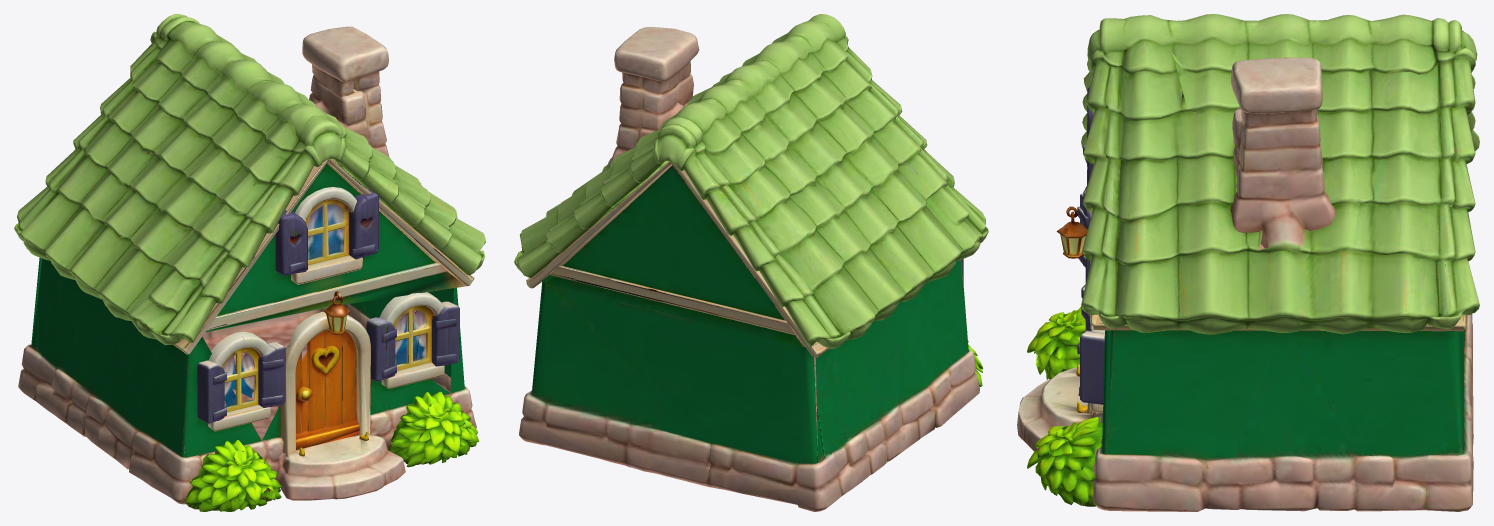
File: cottage_new_green.glb
3 views of the same model, side by side, from view 1: azimuth 30°, elevation 25°; view 2: azimuth 150°, elevation 25°; view 3: azimuth 270°, elevation 25° (orthographic). The views are drawn at different scales.
Visible parts, largest first — view 1: geometry_0; view 2: geometry_0; view 3: geometry_0.
Boxes of the visible parts, x1,y1,x2,y2 form: geometry_0: (14,14,485,511); geometry_0: (514,14,988,511); geometry_0: (1017,14,1479,511).
Bounding box in the file's own units: 0.9517 × 0.9077 × 0.9248.
1 material, 1 textured.
